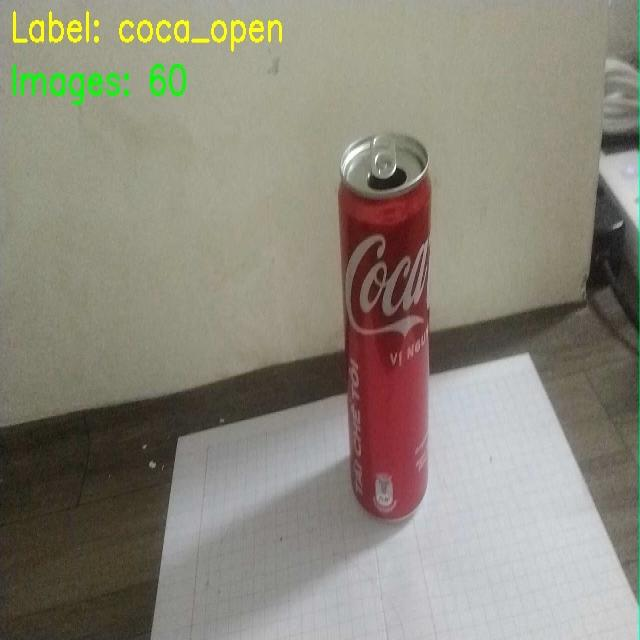Coca_open: (330, 120, 435, 524)
